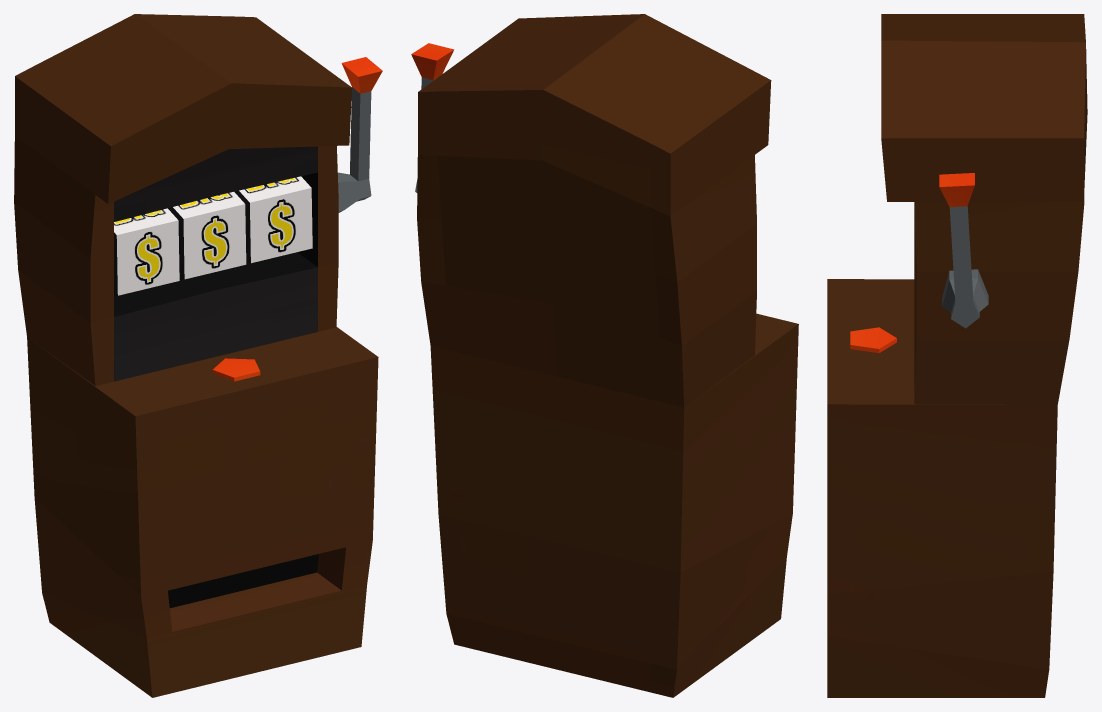
The model's file is OneHandoBandito.fbx.
The picture shows the model from 3 angles, left to right: view 1: azimuth 30°, elevation 25°; view 2: azimuth 150°, elevation 25°; view 3: azimuth 270°, elevation 25°; orthographic projection. The views are drawn at different scales.
Parts seen in each view (by area): view 1: Cube, Cylinder.002, Cylinder.001, Cylinder.004, Cylinder.003, Cylinder; view 2: Cube, Cylinder.003; view 3: Cube, Cylinder.003, Cylinder.
Part boxes in pixels (x1,y1,x2,y2): Cube: (14,14,378,697); Cylinder.002: (168,192,246,279); Cylinder.001: (234,176,312,263); Cylinder.004: (114,208,179,295); Cylinder.003: (337,57,382,212); Cylinder: (212,358,260,381); Cube: (417,14,798,697); Cylinder.003: (411,43,454,192); Cube: (827,14,1087,697); Cylinder.003: (939,173,988,328); Cylinder: (850,327,896,353).
Size of the model in its own units: 644 by 1158 by 452.
Materials: 3 (3 with a texture image).
